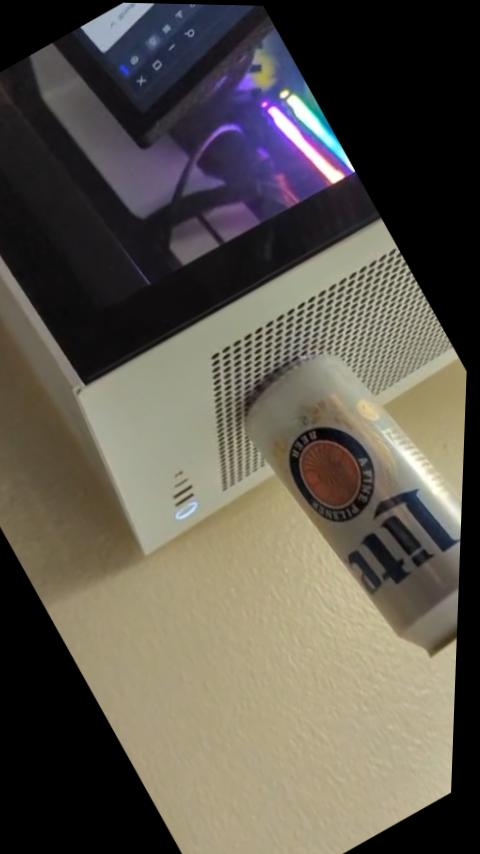metal: (245, 355, 462, 653)
